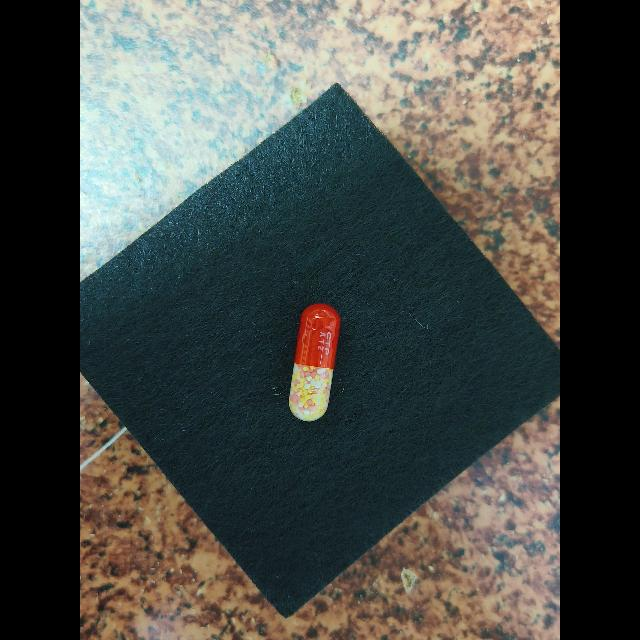Intact Capsule: (289, 303, 341, 421)
